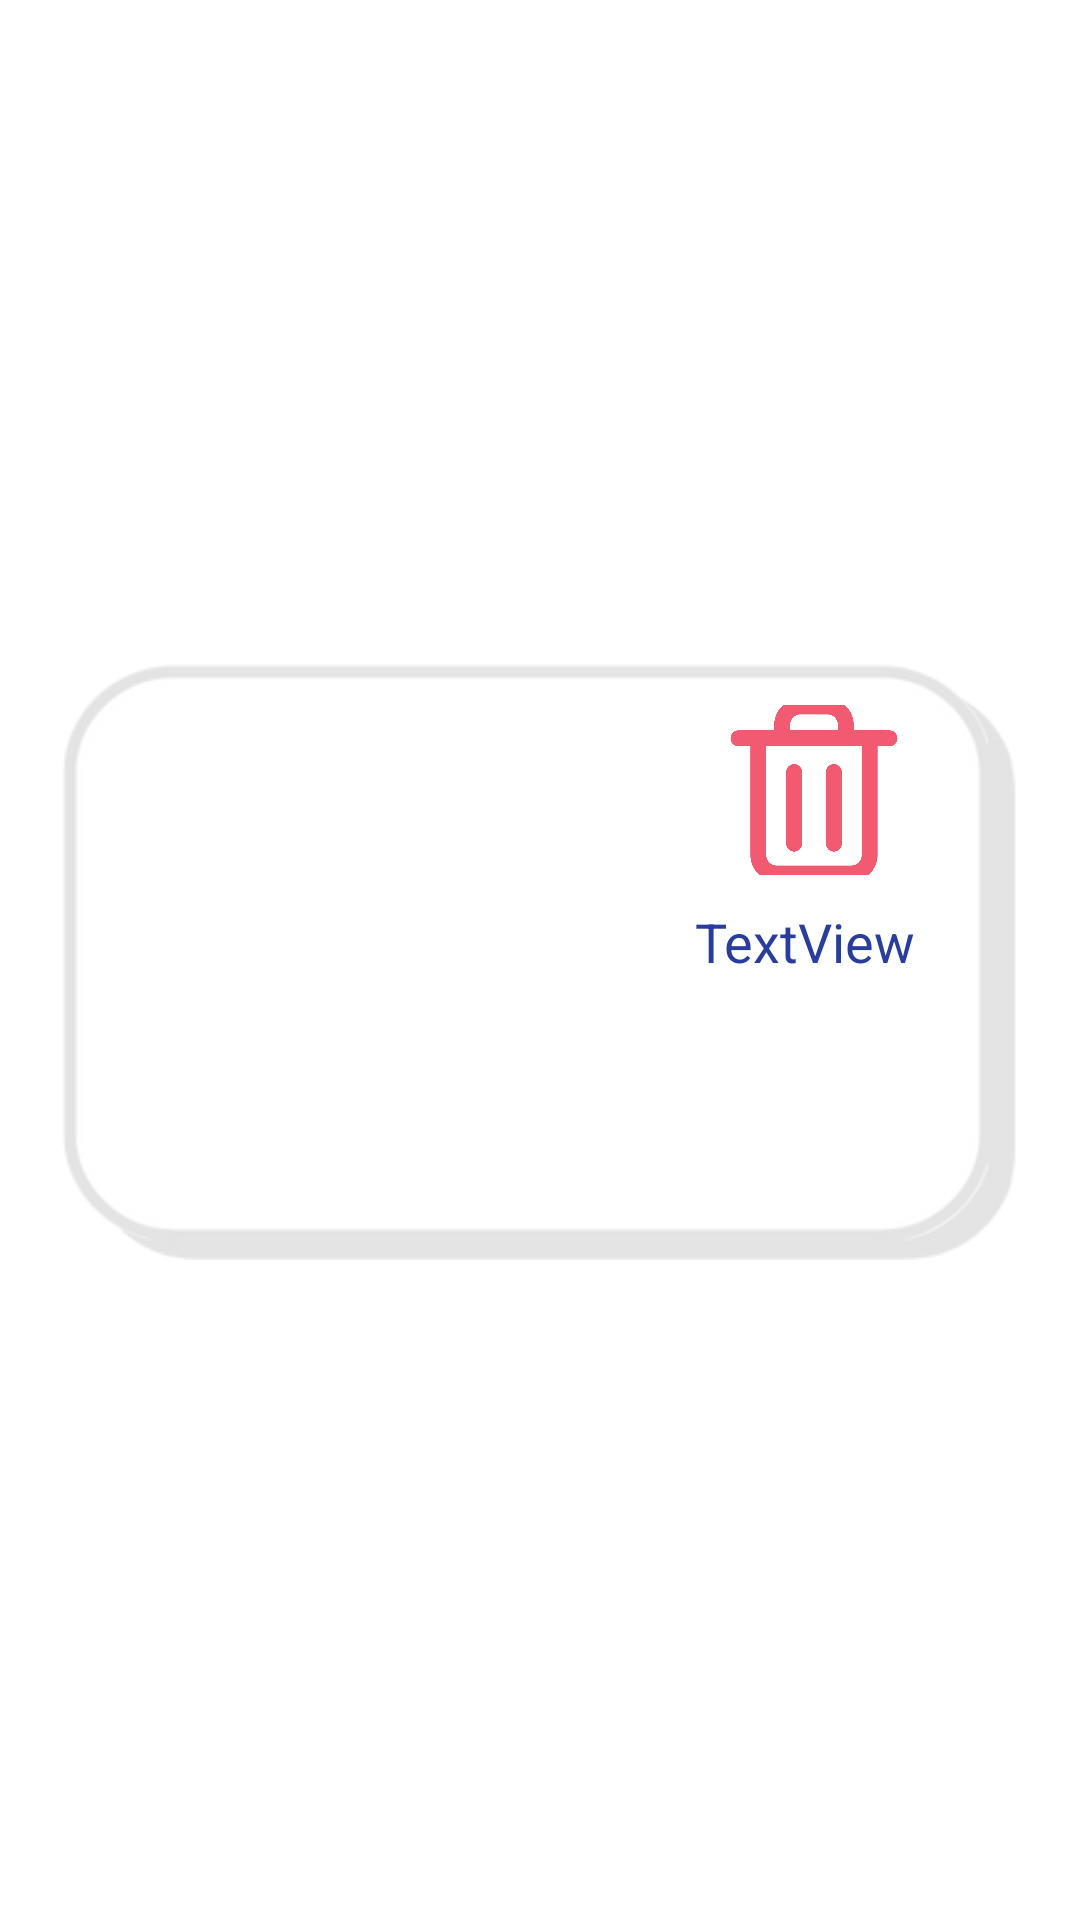

Screen size 1080 x 1920. Icon name, then its center in pixels as point (x, y):
delete: point (813, 790)
